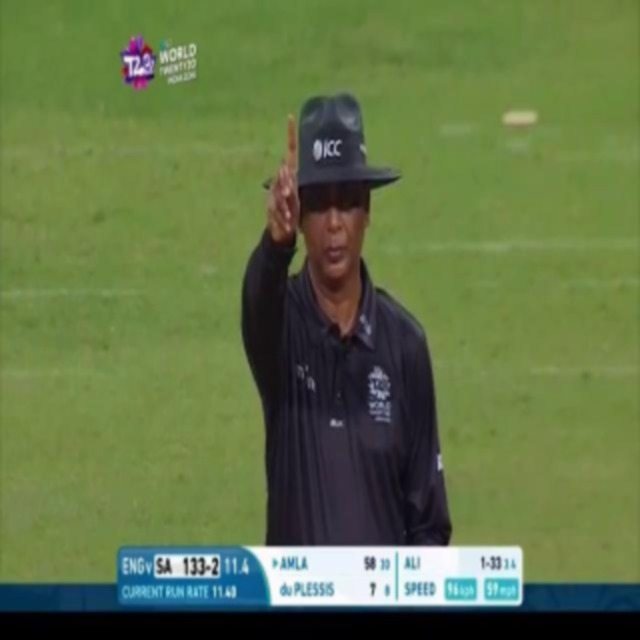Out: (236, 86, 456, 546)
